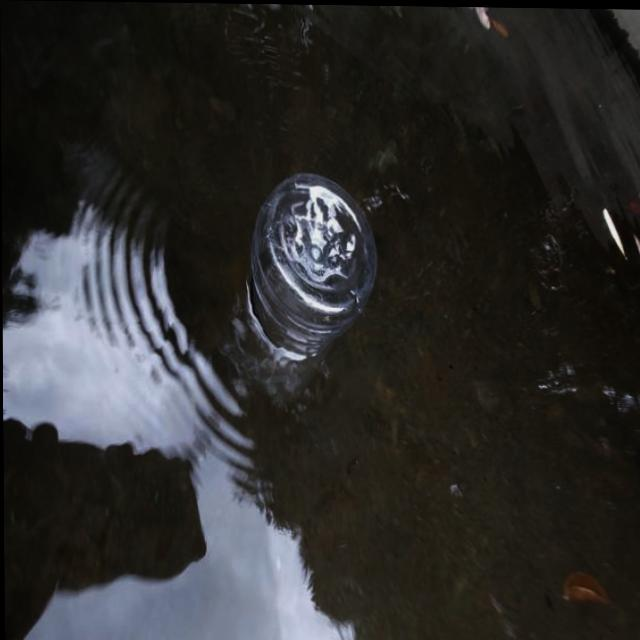leaf: (540, 559, 608, 627), (411, 5, 521, 42)
waterbottle: (193, 169, 390, 426)
